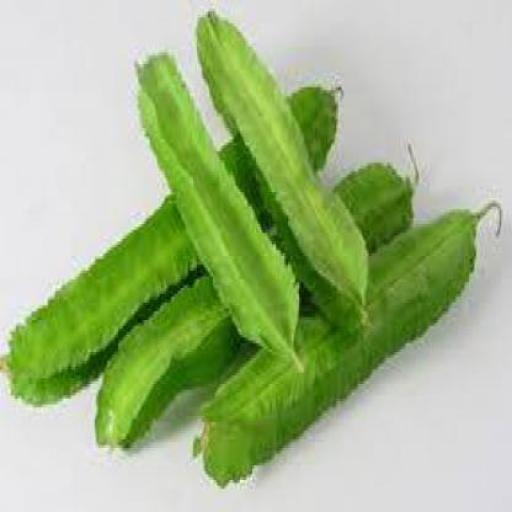biodegradable: (0, 85, 335, 410), (93, 143, 418, 448), (192, 198, 502, 483), (193, 6, 367, 331), (133, 47, 301, 369)
